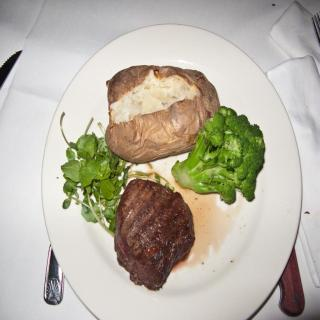Broccoli: (172, 107, 266, 204)
